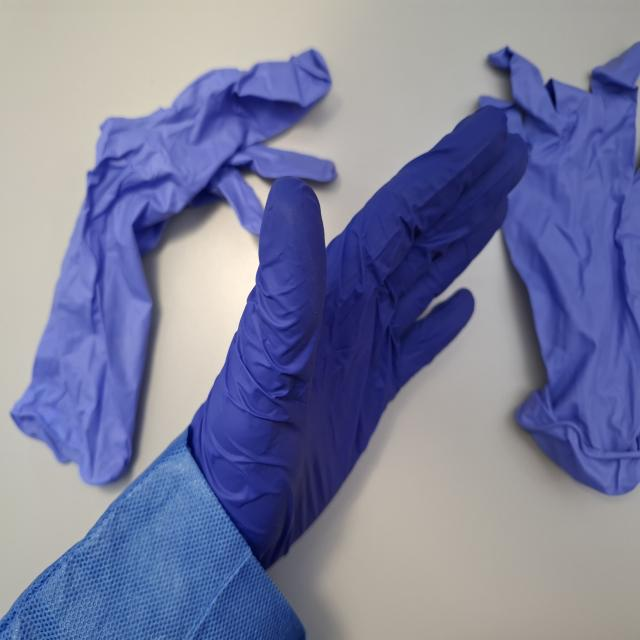glove_on: (186, 100, 532, 580)
